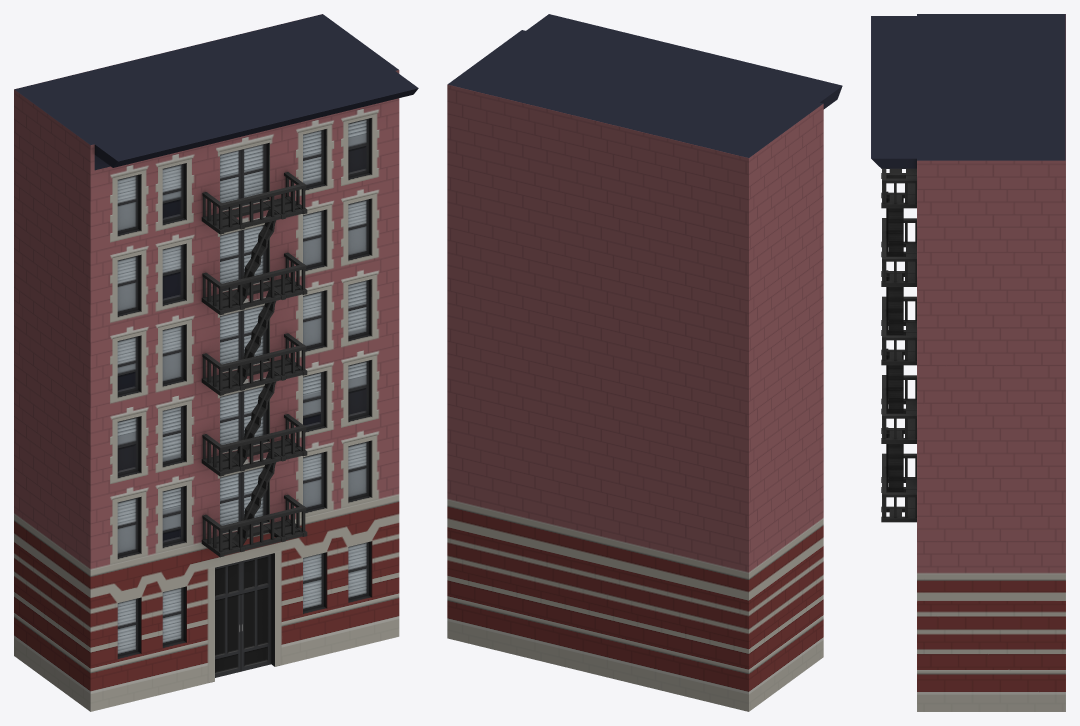
The model's file is Arch.glb.
3 renders of one model, left to right at view 1: azimuth 30°, elevation 25°; view 2: azimuth 150°, elevation 25°; view 3: azimuth 270°, elevation 25°, orthographic. The views are drawn at different scales.
Visible parts, largest first — view 1: node-0; view 2: node-0; view 3: node-0.
Part boxes in pixels (x1,y1,x2,y2): node-0: (14, 14, 418, 711); node-0: (447, 14, 842, 711); node-0: (871, 14, 1065, 711).
Bounding box in the file's own units: 10.32 × 18.1 × 5.79.
Materials: 1 (1 with a texture image).
